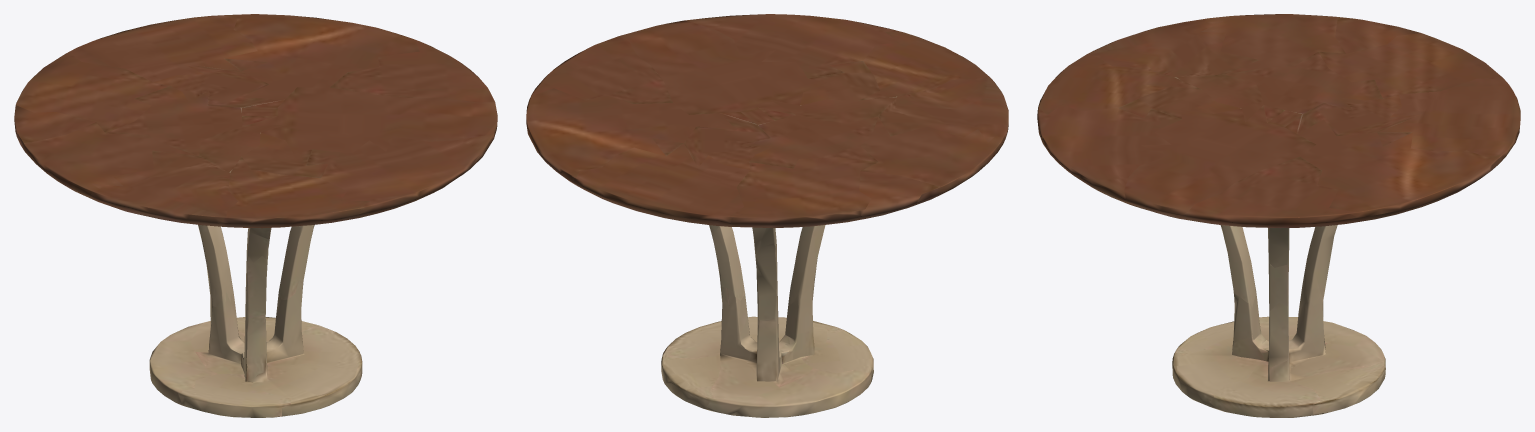
File: meja_hotel_lod2.glb
The picture shows the model from 3 angles, left to right: view 1: azimuth 30°, elevation 25°; view 2: azimuth 150°, elevation 25°; view 3: azimuth 270°, elevation 25°; orthographic projection.
Parts seen in each view (by area): view 1: tripo_node_7093c48f-0cf3-48c0-a8a0-9f4beda18933; view 2: tripo_node_7093c48f-0cf3-48c0-a8a0-9f4beda18933; view 3: tripo_node_7093c48f-0cf3-48c0-a8a0-9f4beda18933.
Part boxes in pixels (bbox=[...]): tripo_node_7093c48f-0cf3-48c0-a8a0-9f4beda18933: bbox=[14, 14, 497, 417]; tripo_node_7093c48f-0cf3-48c0-a8a0-9f4beda18933: bbox=[526, 14, 1008, 417]; tripo_node_7093c48f-0cf3-48c0-a8a0-9f4beda18933: bbox=[1037, 14, 1520, 417].
Bounding box in the file's own units: 0.9994 × 0.5897 × 0.9995.
Materials: 1 (1 with a texture image).
